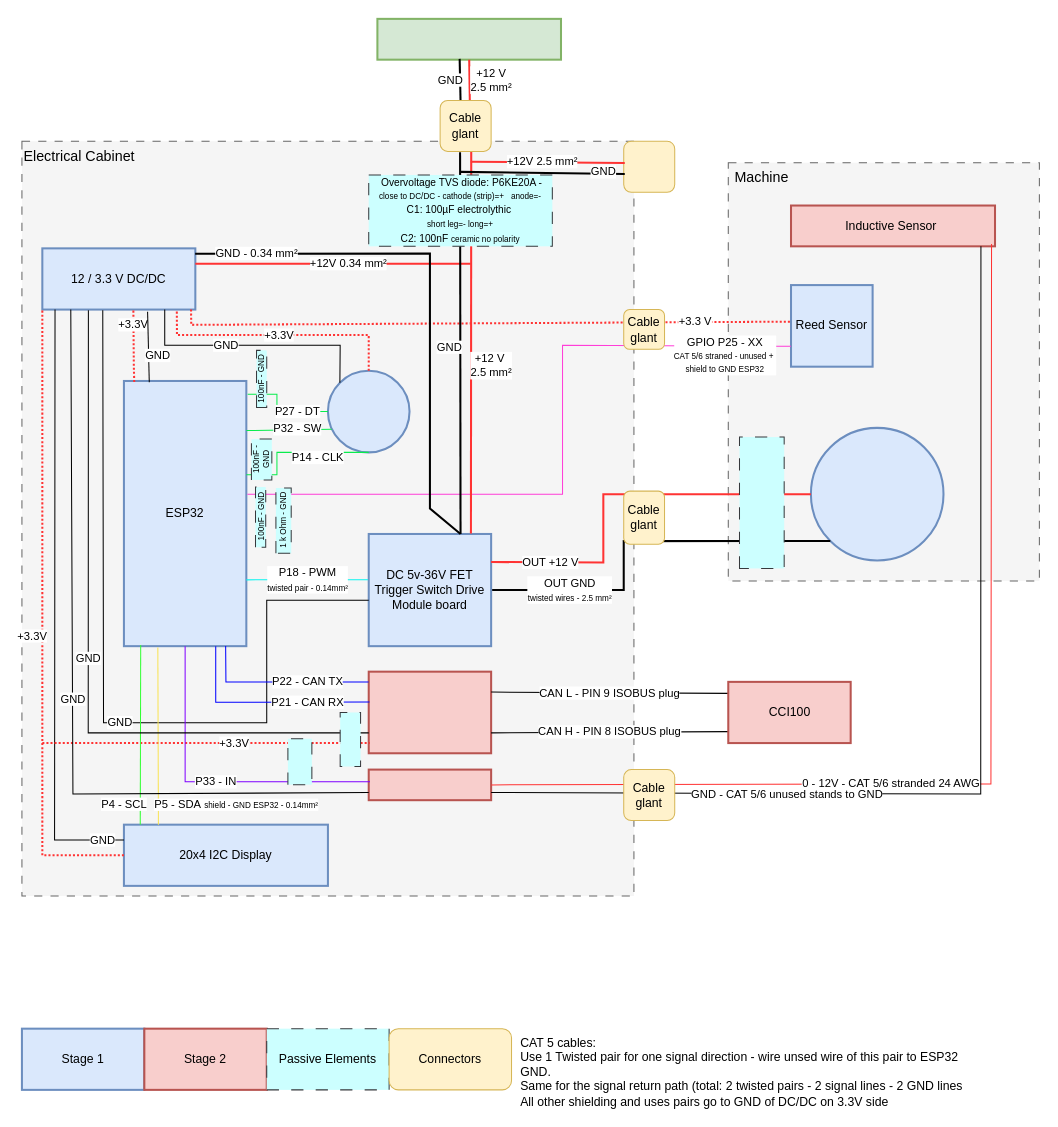
Some shapes in this 1058 by 1127 pixel diagram are drawn without their labels. Here are the shapes that lost their labels. From the top down, the centre of each, then its label:
(469,38): 12 V Power - ISOBUS or 3 pole plug
(649,166): 3 pole socket
(368,411): KY-040 encoder
(761,502): diode mbr2045 CT P2-OUT=+12V P1,3 OUT= GND
(876,493): Motor 12 V, 10 A
(429,712): SN65HVD230 CAN Transciever
(350,739): 100nF GND - +3.3V
(299,761): 1 - 4.7 k Ohm - 3.3V
(429,784): PCF817 Optocoupler
